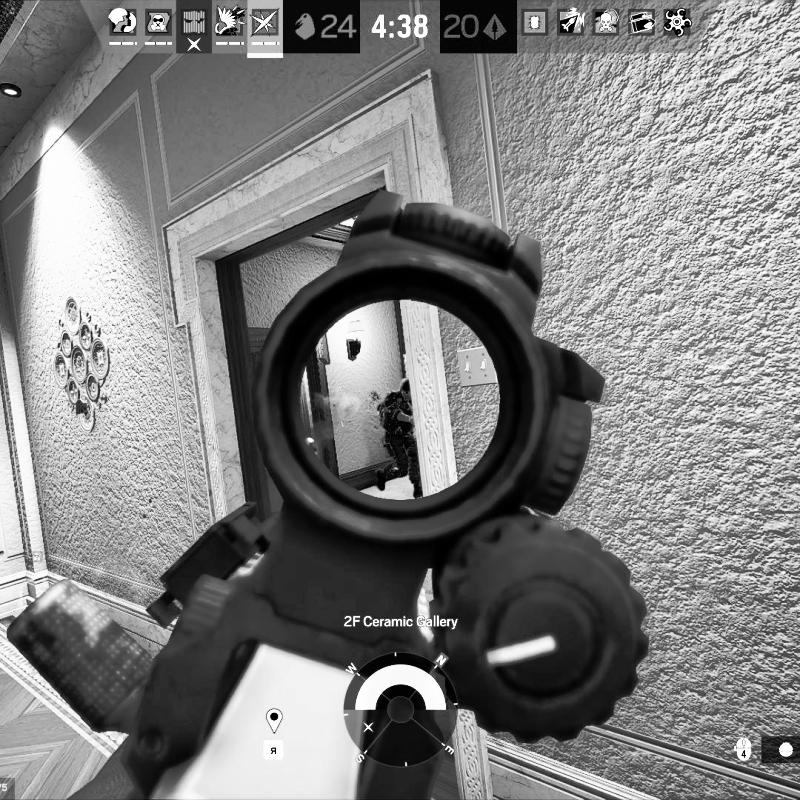Character: (375, 376, 424, 501)
Head: (398, 378, 411, 399)
